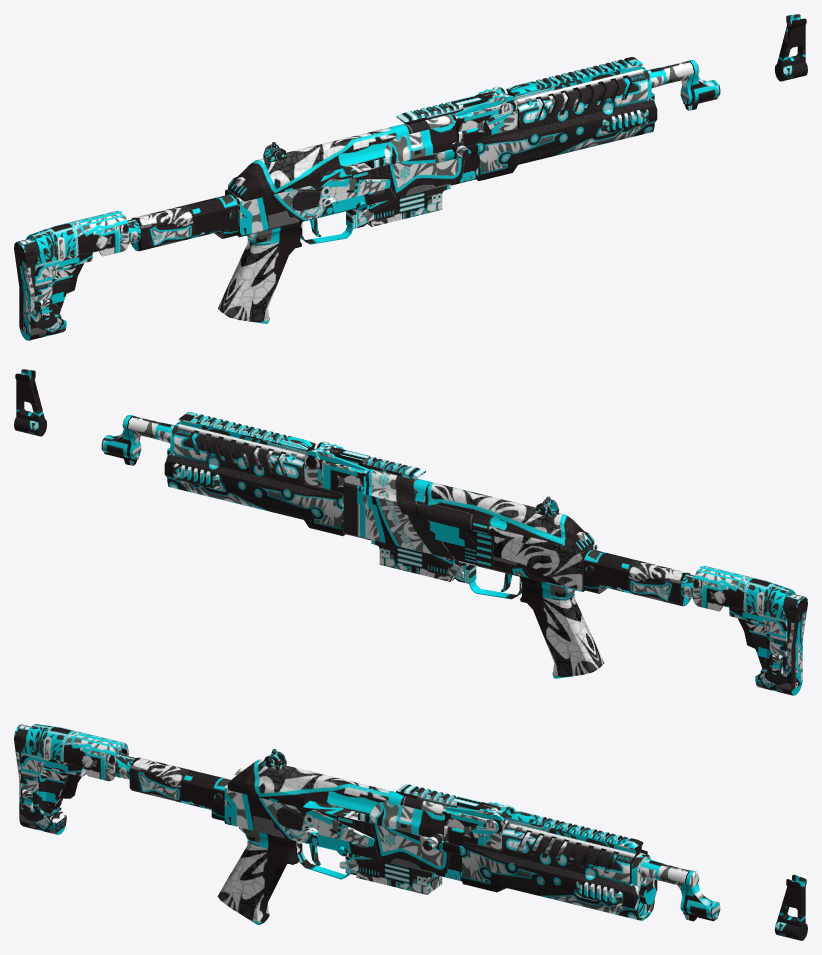
The model's file is assaultriflemk2_ac.glb.
3 views of the same model, one above another, from view 1: azimuth 30°, elevation 25°; view 2: azimuth 150°, elevation 25°; view 3: azimuth 330°, elevation 25° (orthographic).
Parts seen in each view (by area): view 1: Gun_Root; view 2: Gun_Root; view 3: Gun_Root.
Part boxes in pixels (<box>): Gun_Root: <box>14,14,807,340</box>; Gun_Root: <box>14,369,807,695</box>; Gun_Root: <box>14,724,807,940</box>.
Size of the model in its own units: 0.873 by 0.1873 by 0.0659.
2 materials, 2 textured.
